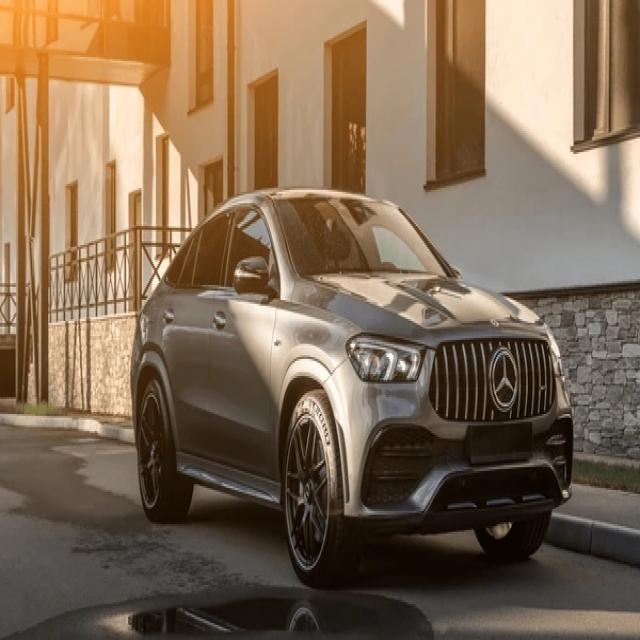mercedes: (484, 347, 520, 413)
